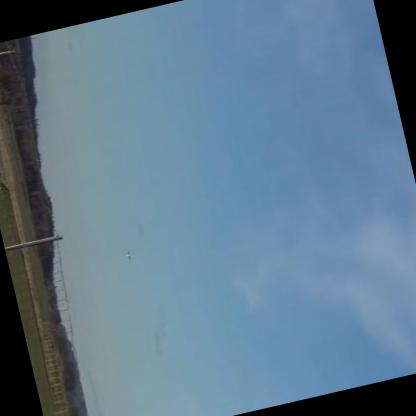plane: (120, 248, 135, 264)
